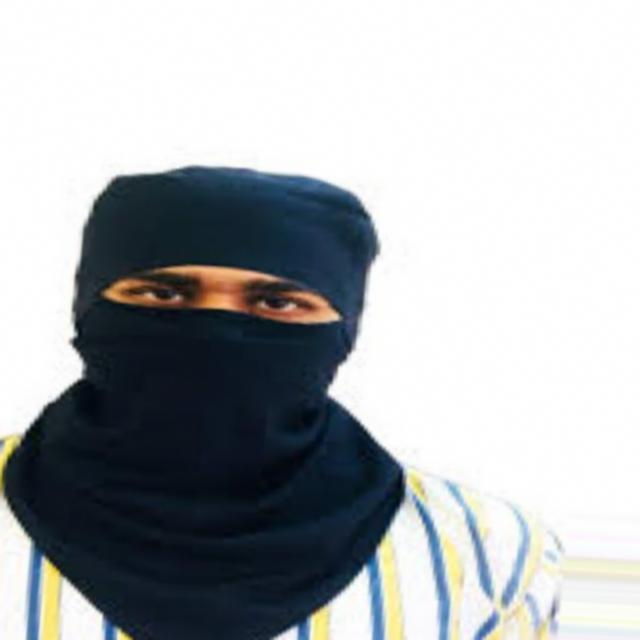6_pasamontana: (0, 166, 402, 640)
